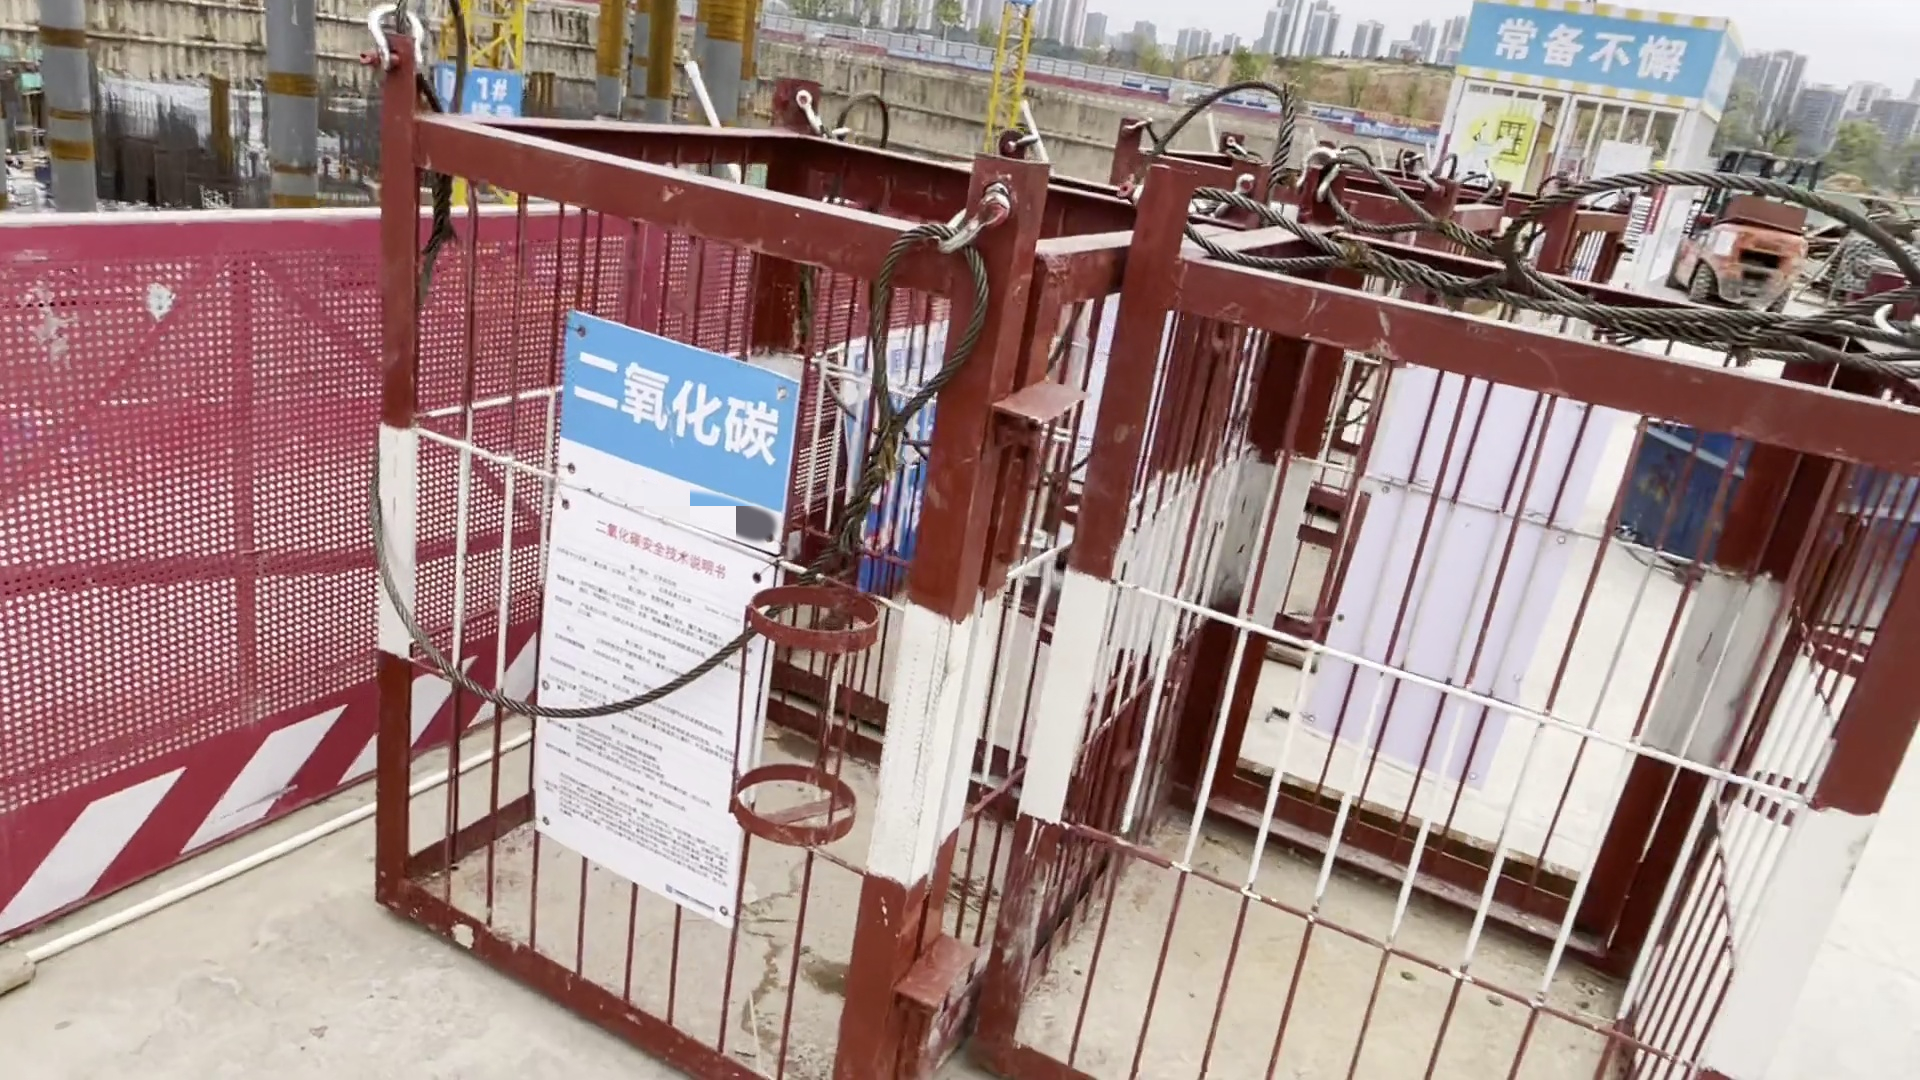fence: (9, 235, 526, 887)
slogan: (538, 302, 790, 881)
